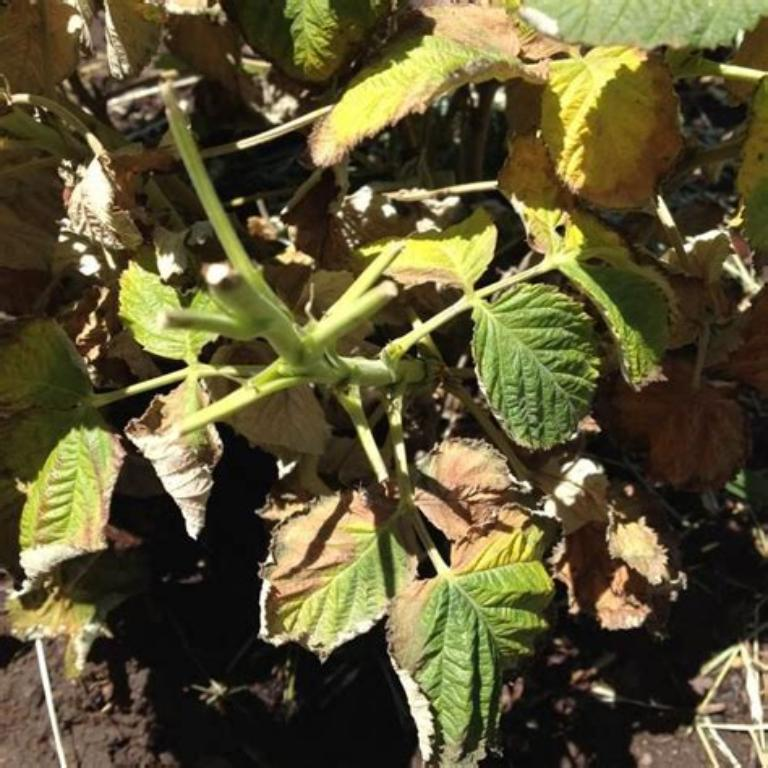blight: (280, 512, 360, 600), (430, 452, 491, 528)
